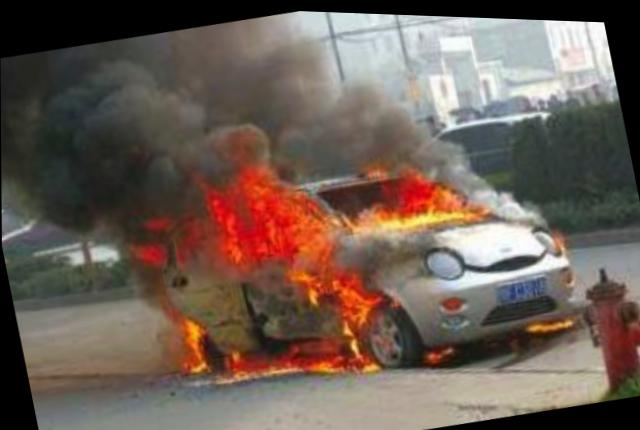fire: (114, 100, 579, 417)
